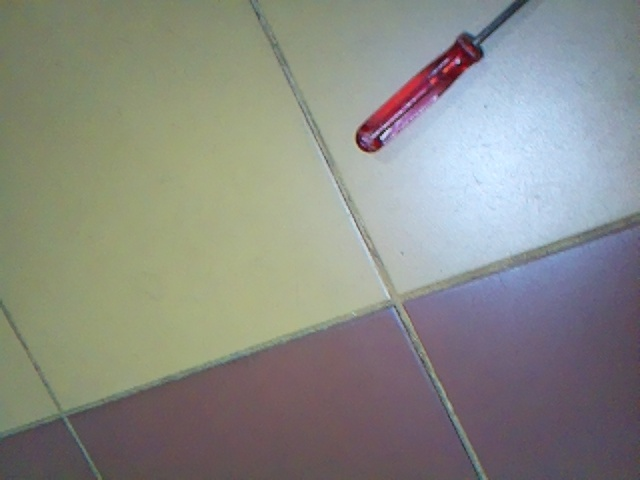redskrew: (356, 17, 501, 150)
